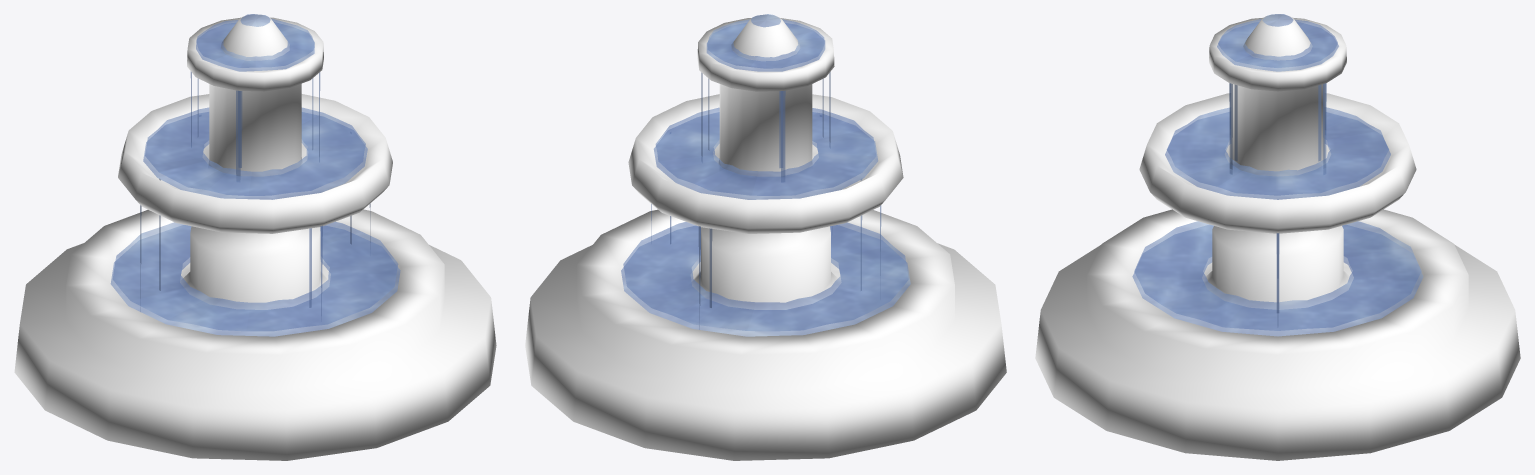
The model's file is desert fountain.glb.
The picture shows the model from 3 angles, left to right: view 1: azimuth 30°, elevation 25°; view 2: azimuth 150°, elevation 25°; view 3: azimuth 270°, elevation 25°; orthographic projection.
Visible parts, largest first — view 1: EQ_Desert_Fountain_Stone, EQ_Desert_Fountain_Water; view 2: EQ_Desert_Fountain_Stone, EQ_Desert_Fountain_Water; view 3: EQ_Desert_Fountain_Stone, EQ_Desert_Fountain_Water.
Boxes of the visible parts, x1,y1,x2,y2 form: EQ_Desert_Fountain_Stone: (14, 14, 496, 460); EQ_Desert_Fountain_Water: (113, 14, 398, 331); EQ_Desert_Fountain_Stone: (525, 14, 1006, 460); EQ_Desert_Fountain_Water: (623, 14, 908, 331); EQ_Desert_Fountain_Stone: (1035, 14, 1520, 460); EQ_Desert_Fountain_Water: (1134, 14, 1421, 330).
Size of the model in its own units: 1.75 by 1.35 by 1.75.
6 materials, 1 textured.
